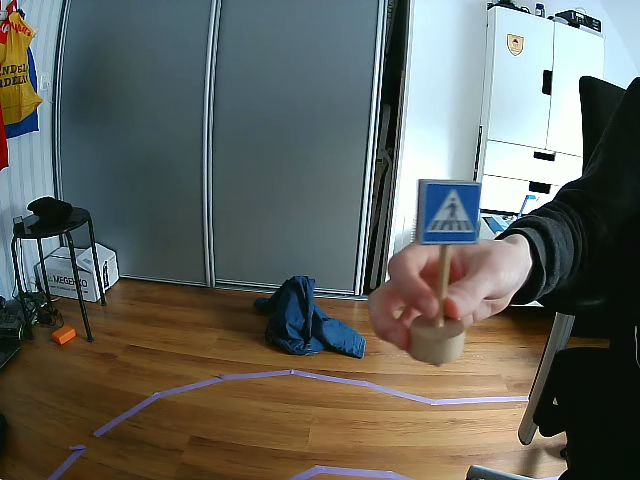zebrapad: (422, 183, 478, 245)
